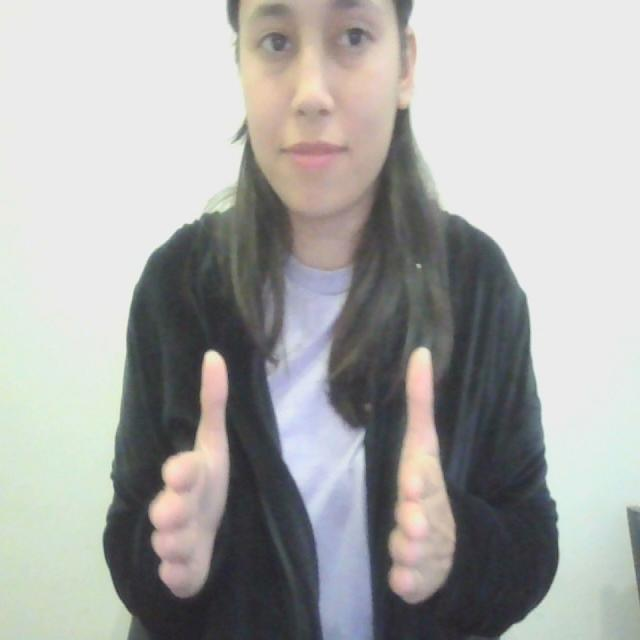Nasil: (145, 341, 463, 617)
